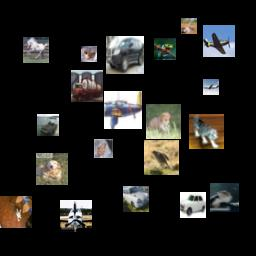airplane: (104, 91, 142, 129), (60, 200, 92, 232), (203, 25, 235, 57), (203, 79, 219, 95)
automobile: (106, 36, 144, 74), (123, 186, 149, 212), (180, 192, 206, 218)
bird: (144, 140, 179, 175)
cat: (189, 114, 224, 149), (0, 196, 32, 228), (210, 183, 239, 212)
deer: (181, 18, 197, 34)
dog: (146, 104, 181, 139), (36, 153, 68, 185), (81, 46, 97, 62)
frog: (154, 38, 176, 60), (94, 139, 113, 158)
ship: (37, 114, 59, 136)
truck: (71, 70, 103, 102)
